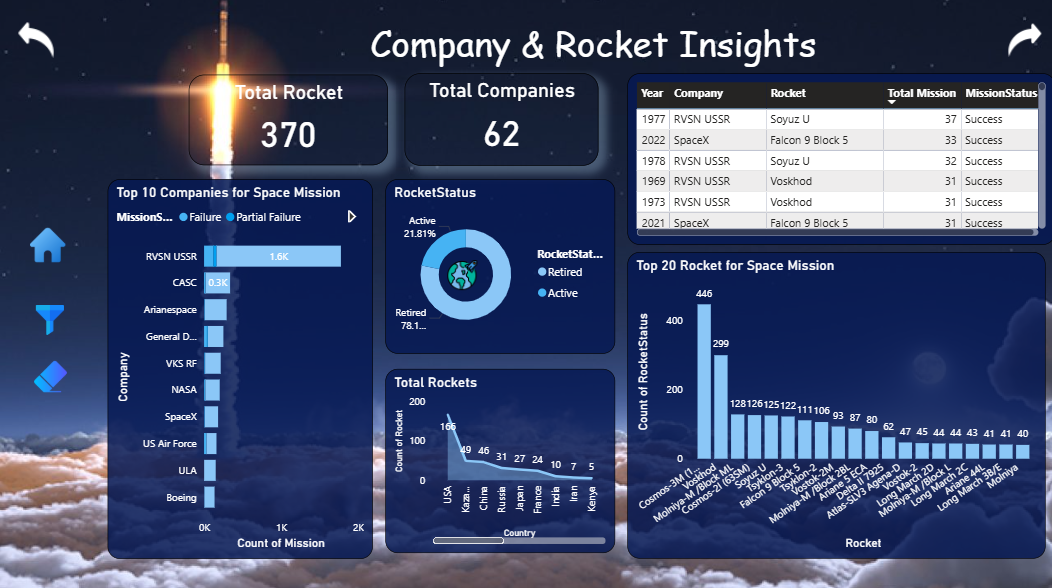

The page's visual inventory and layout, read from the dashboard file:
{"tool":"powerbi","page":{"name":"Page 3","canvas":[1280,720],"ordinal":3},"visuals":[{"type":"textbox","title":"Company & Rocket Insights","box":[445,23.3,565,66.7],"z":0},{"type":"tableEx","fields":{"Values":["space_missions.Year","space_missions.Company","space_missions.Rocket","space_missions.TOTAL_MISSION","space_missions.MissionStatus"]},"box":[761.7,90,518.3,208.3],"z":1000},{"type":"donutChart","title":"RocketStatus","fields":{"Category":["space_missions.RocketStatus"],"Y":["CountNonNull(space_missions.Rocket)"]},"box":[468.3,218.3,278.3,211.7],"z":2000},{"type":"card","title":"Total Rocket","fields":{"Values":["Count(space_missions.Rocket)"]},"box":[230,91.7,241.7,110],"z":3000},{"type":"card","title":"Total Companies","fields":{"Values":["Count(space_missions.Company)"]},"box":[491.7,90,235,111.7],"z":4000},{"type":"columnChart","title":"Top 20 Rocket for Space Mission","fields":{"Category":["space_missions.Rocket"],"Y":["CountNonNull(space_missions.RocketStatus)"]},"box":[761.7,306.7,506.7,371.7],"z":5000},{"type":"barChart","title":"Top 10 Companies for Space Mission ","fields":{"Category":["space_missions.Company"],"Y":["CountNonNull(space_missions.Mission)"],"Series":["space_missions.MissionStatus"]},"box":[131.7,218.3,321.7,460],"z":6000},{"type":"image","box":[17.7,22.6,53.2,53.2],"z":7000},{"type":"image","box":[1218.5,22.6,50,53.2],"z":8000},{"type":"areaChart","title":"Total Rockets","fields":{"Category":["space_missions.Country"],"Y":["Count(space_missions.Rocket)"]},"box":[468.3,448.3,278.3,223.3],"z":9000},{"type":"image","box":[26.7,271.7,65,53.3],"z":10000},{"type":"image","box":[38.3,360,46.7,58.3],"z":11000},{"type":"image","box":[33.3,430,58.3,55],"z":12000},{"type":"image","box":[538.3,310,46.7,50],"z":15000}]}

Visuals, with their boxes in screenshot pixels (x1, y1, x2, y2), scaled from the page's 1280x720 canvas onto the 1052x588 screenshot:
"Company & Rocket Insights" textbox: 366/19/830/74
tableEx - space_missions.Year x space_missions.Company: 626/74/1051/244
"RocketStatus" donutChart: 385/178/614/351
"Total Rocket" card: 189/75/388/165
"Total Companies" card: 404/74/597/165
"Top 20 Rocket for Space Mission" columnChart: 626/250/1042/554
"Top 10 Companies for Space Mission " barChart: 108/178/373/554
image: 15/18/58/62
image: 1001/18/1043/62
"Total Rockets" areaChart: 385/366/614/548
image: 22/222/75/265
image: 31/294/70/342
image: 27/351/75/396
image: 442/253/481/294
